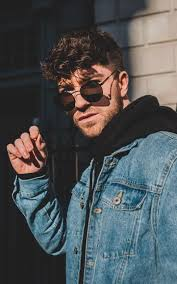g.y: (74, 79, 106, 104)
